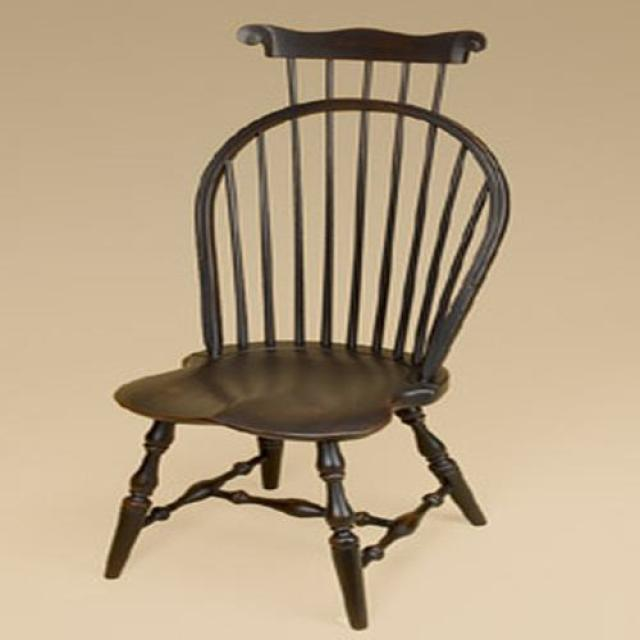chair: (104, 97, 512, 632)
